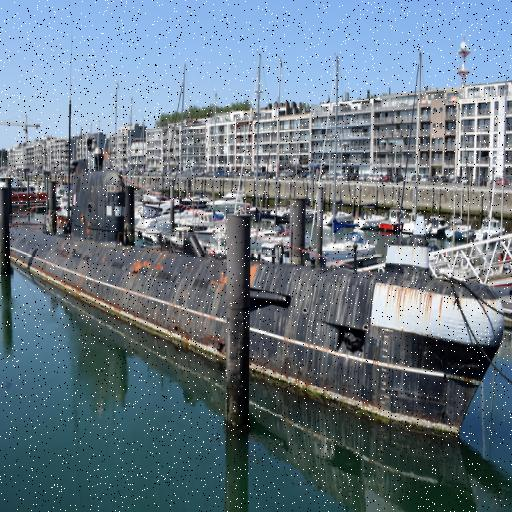submarine: (1, 171, 501, 450)
